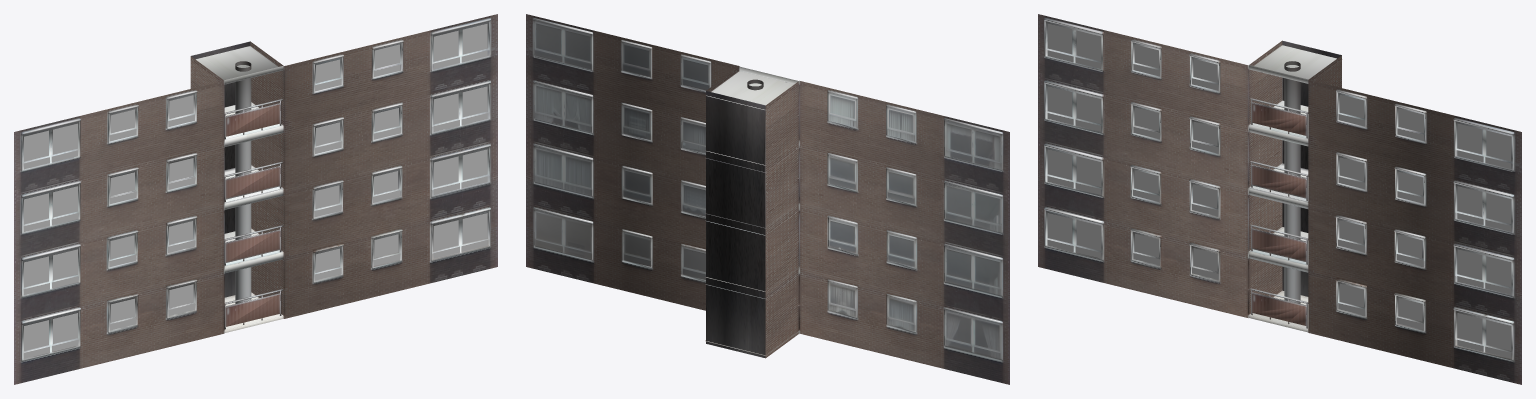
The model's file is apartment_block8.obj.
3 renders of one model, left to right at view 1: azimuth 30°, elevation 25°; view 2: azimuth 150°, elevation 25°; view 3: azimuth 330°, elevation 25°, orthographic.
Parts seen in each view (by area): view 1: apartment_block8; view 2: apartment_block8; view 3: apartment_block8.
Part boxes in pixels (box(x1,y1,x2,y2)): apartment_block8: box(14, 14, 497, 384); apartment_block8: box(526, 14, 1009, 384); apartment_block8: box(1038, 14, 1521, 384).
Bounding box in the file's own units: 5 × 2.5 × 0.6338.
